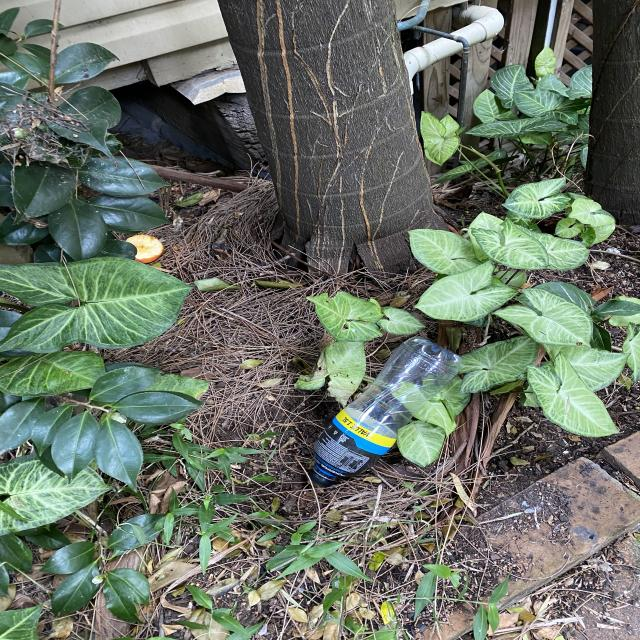bottle: (308, 336, 464, 486)
